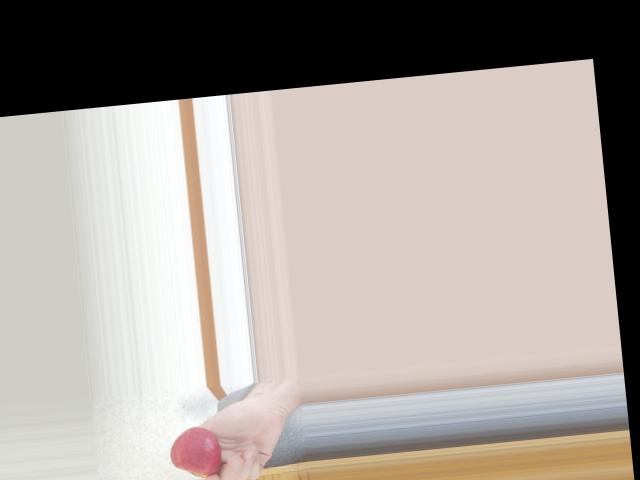apple: (166, 423, 226, 480)
